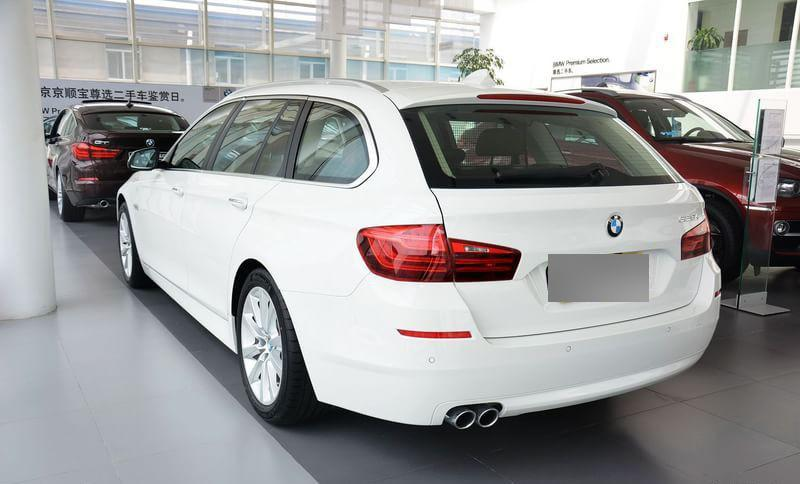Wagon: (115, 67, 724, 432)
